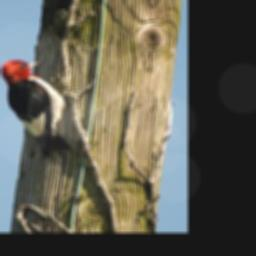Woodpecker: (0, 59, 82, 160)
